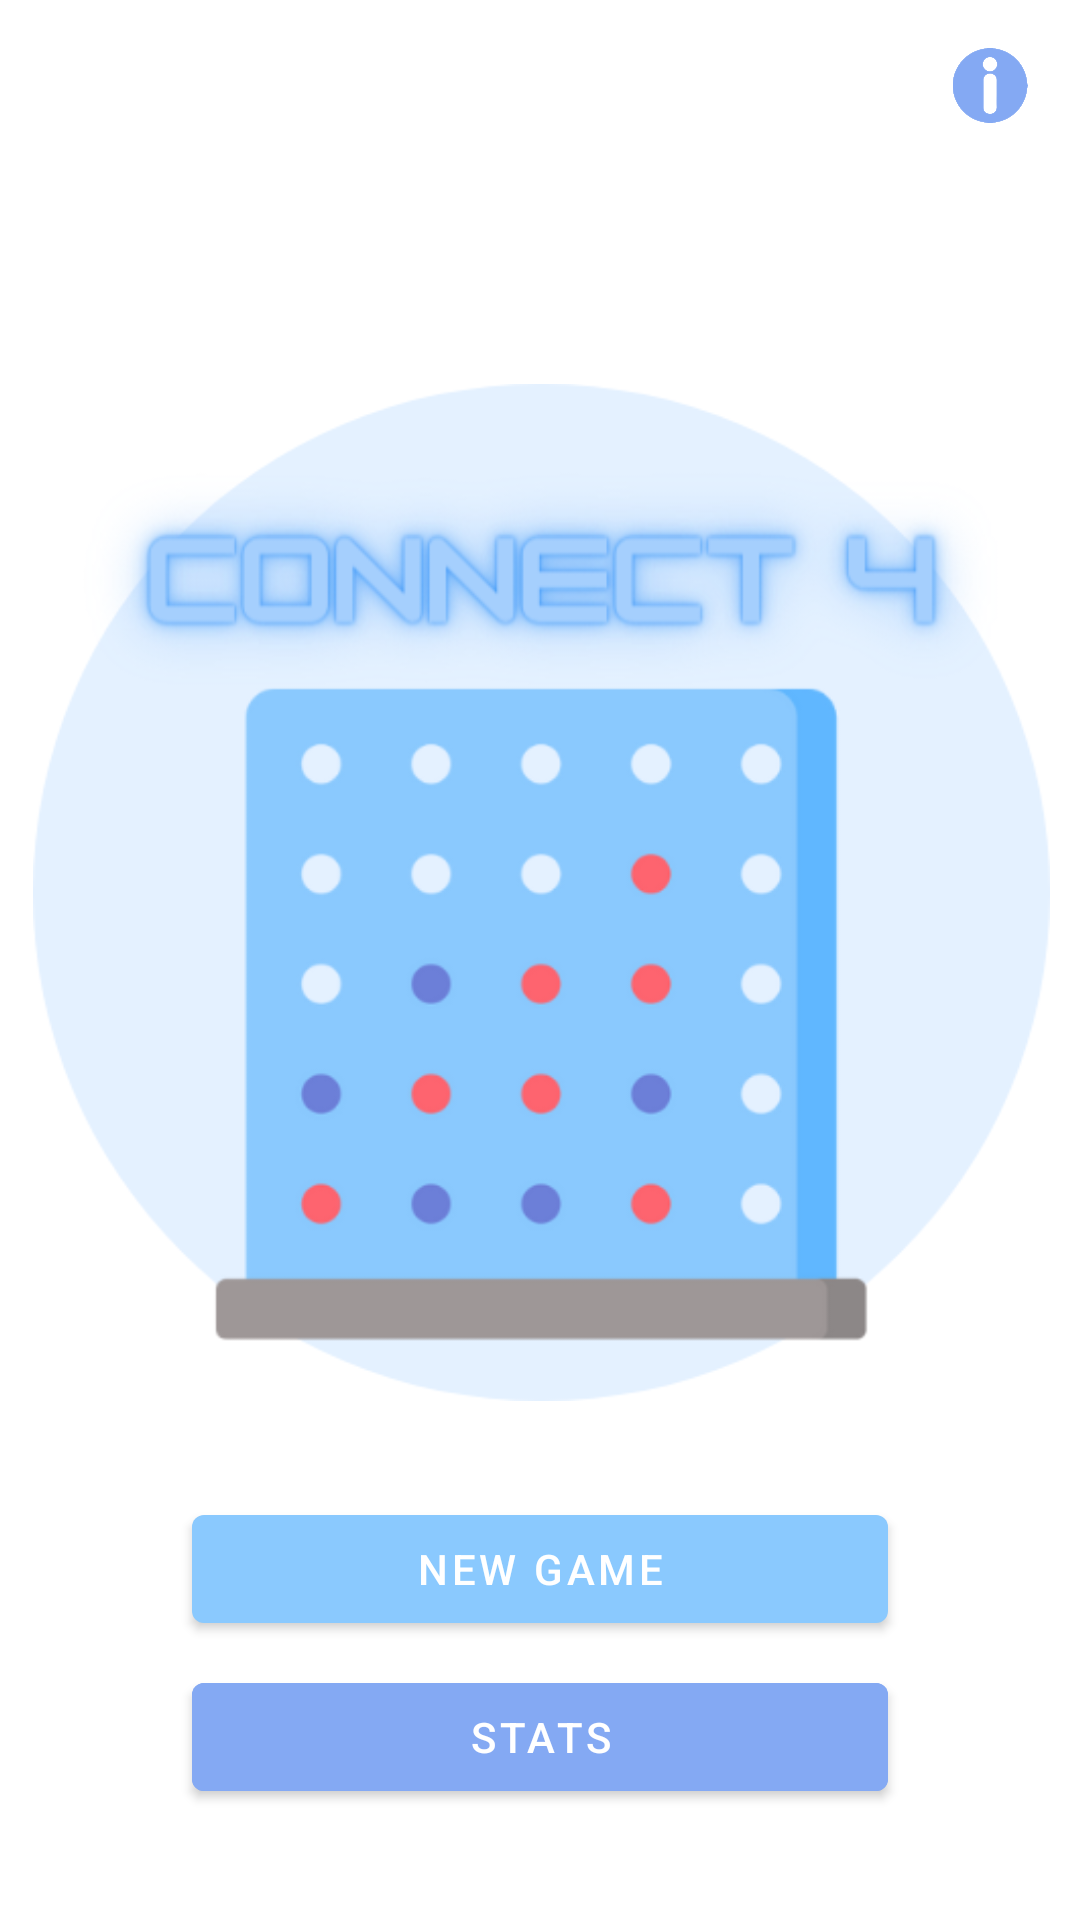

Named icons in this screenshot (1080×1920) and their centers, [x,y]:
info: [990,85]
